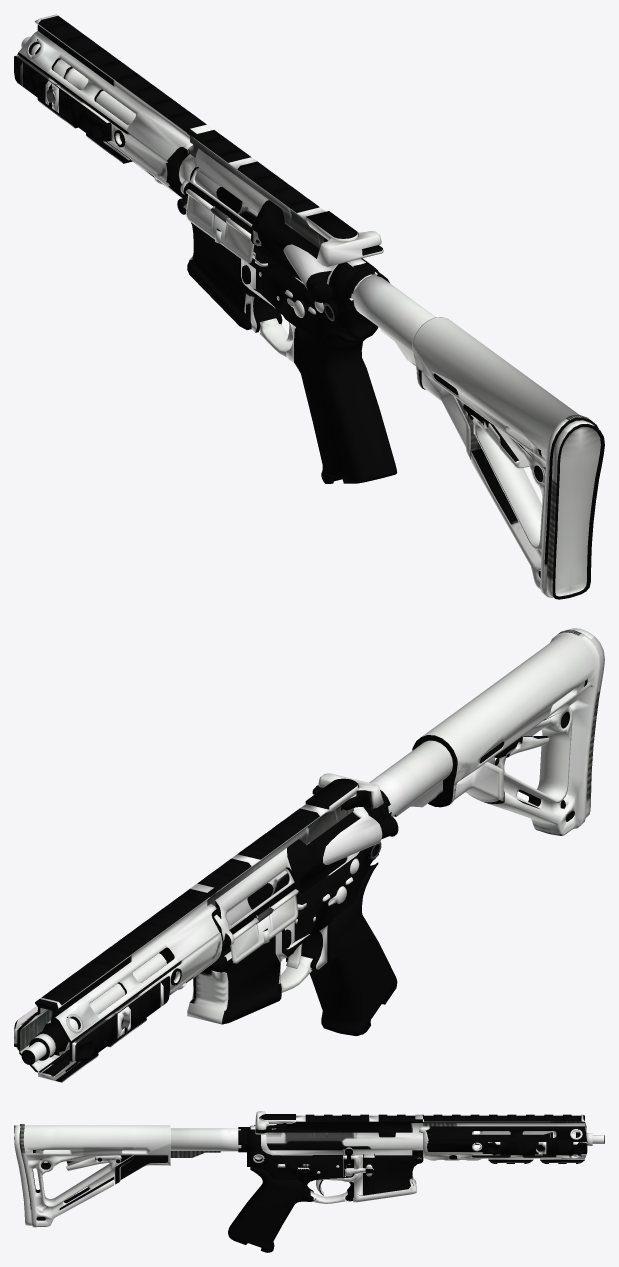
Rendered from R4C-Diamond.glb.
3 views of the same model, one above another, from view 1: azimuth 30°, elevation 25°; view 2: azimuth 150°, elevation 25°; view 3: azimuth 270°, elevation 25° (orthographic). The views are drawn at different scales.
Parts seen in each view (by area): view 1: R4C Diamond; view 2: R4C Diamond; view 3: R4C Diamond.
Part boxes in pixels (x1,y1,x2,y2): R4C Diamond: (14, 14, 604, 599); R4C Diamond: (14, 628, 604, 1082); R4C Diamond: (14, 1111, 604, 1252).
Size of the model in its own units: 0.0476 by 0.1397 by 0.5675.
Materials: 1 (1 with a texture image).
